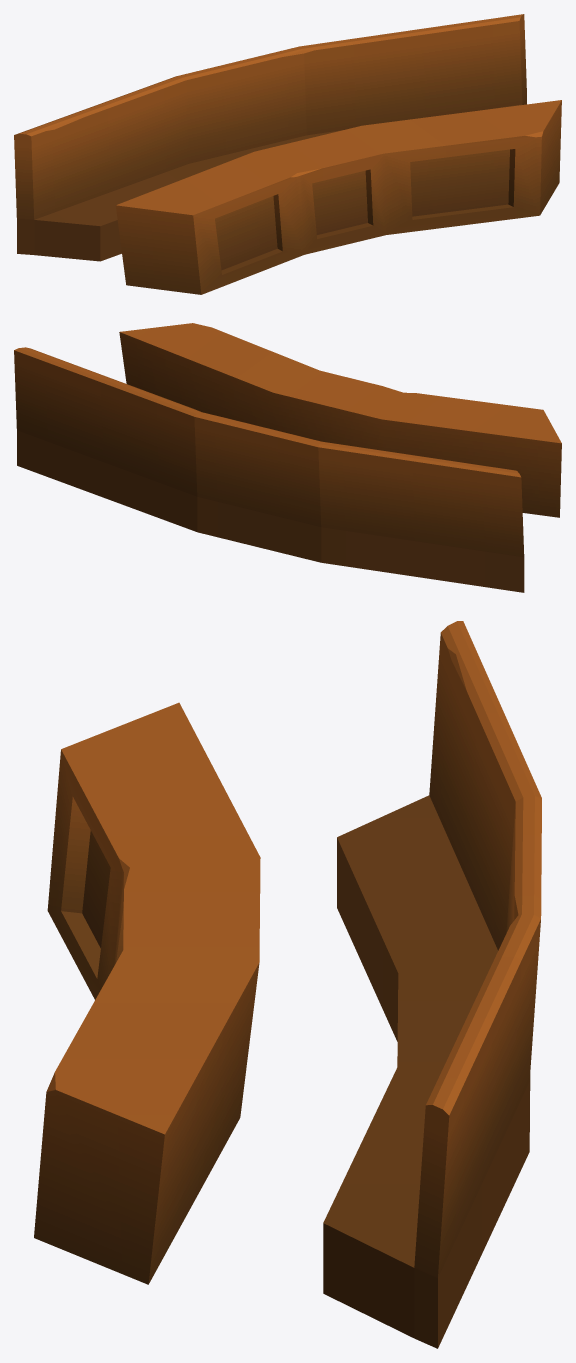
The model's file is Chair_Court.fbx.
3 renders of one model, top to bottom at view 1: azimuth 30°, elevation 25°; view 2: azimuth 150°, elevation 25°; view 3: azimuth 270°, elevation 25°, orthographic. The views are drawn at different scales.
Parts seen in each view (by area): view 1: Cube.017; view 2: Cube.017; view 3: Cube.017.
Boxes of the visible parts, <box> form: Cube.017: <box>14,14,561,294</box>; Cube.017: <box>14,323,561,592</box>; Cube.017: <box>34,621,541,1348</box>.
Size of the model in its own units: 447 by 99.71 by 194.
Materials: 1 (1 with a texture image).
